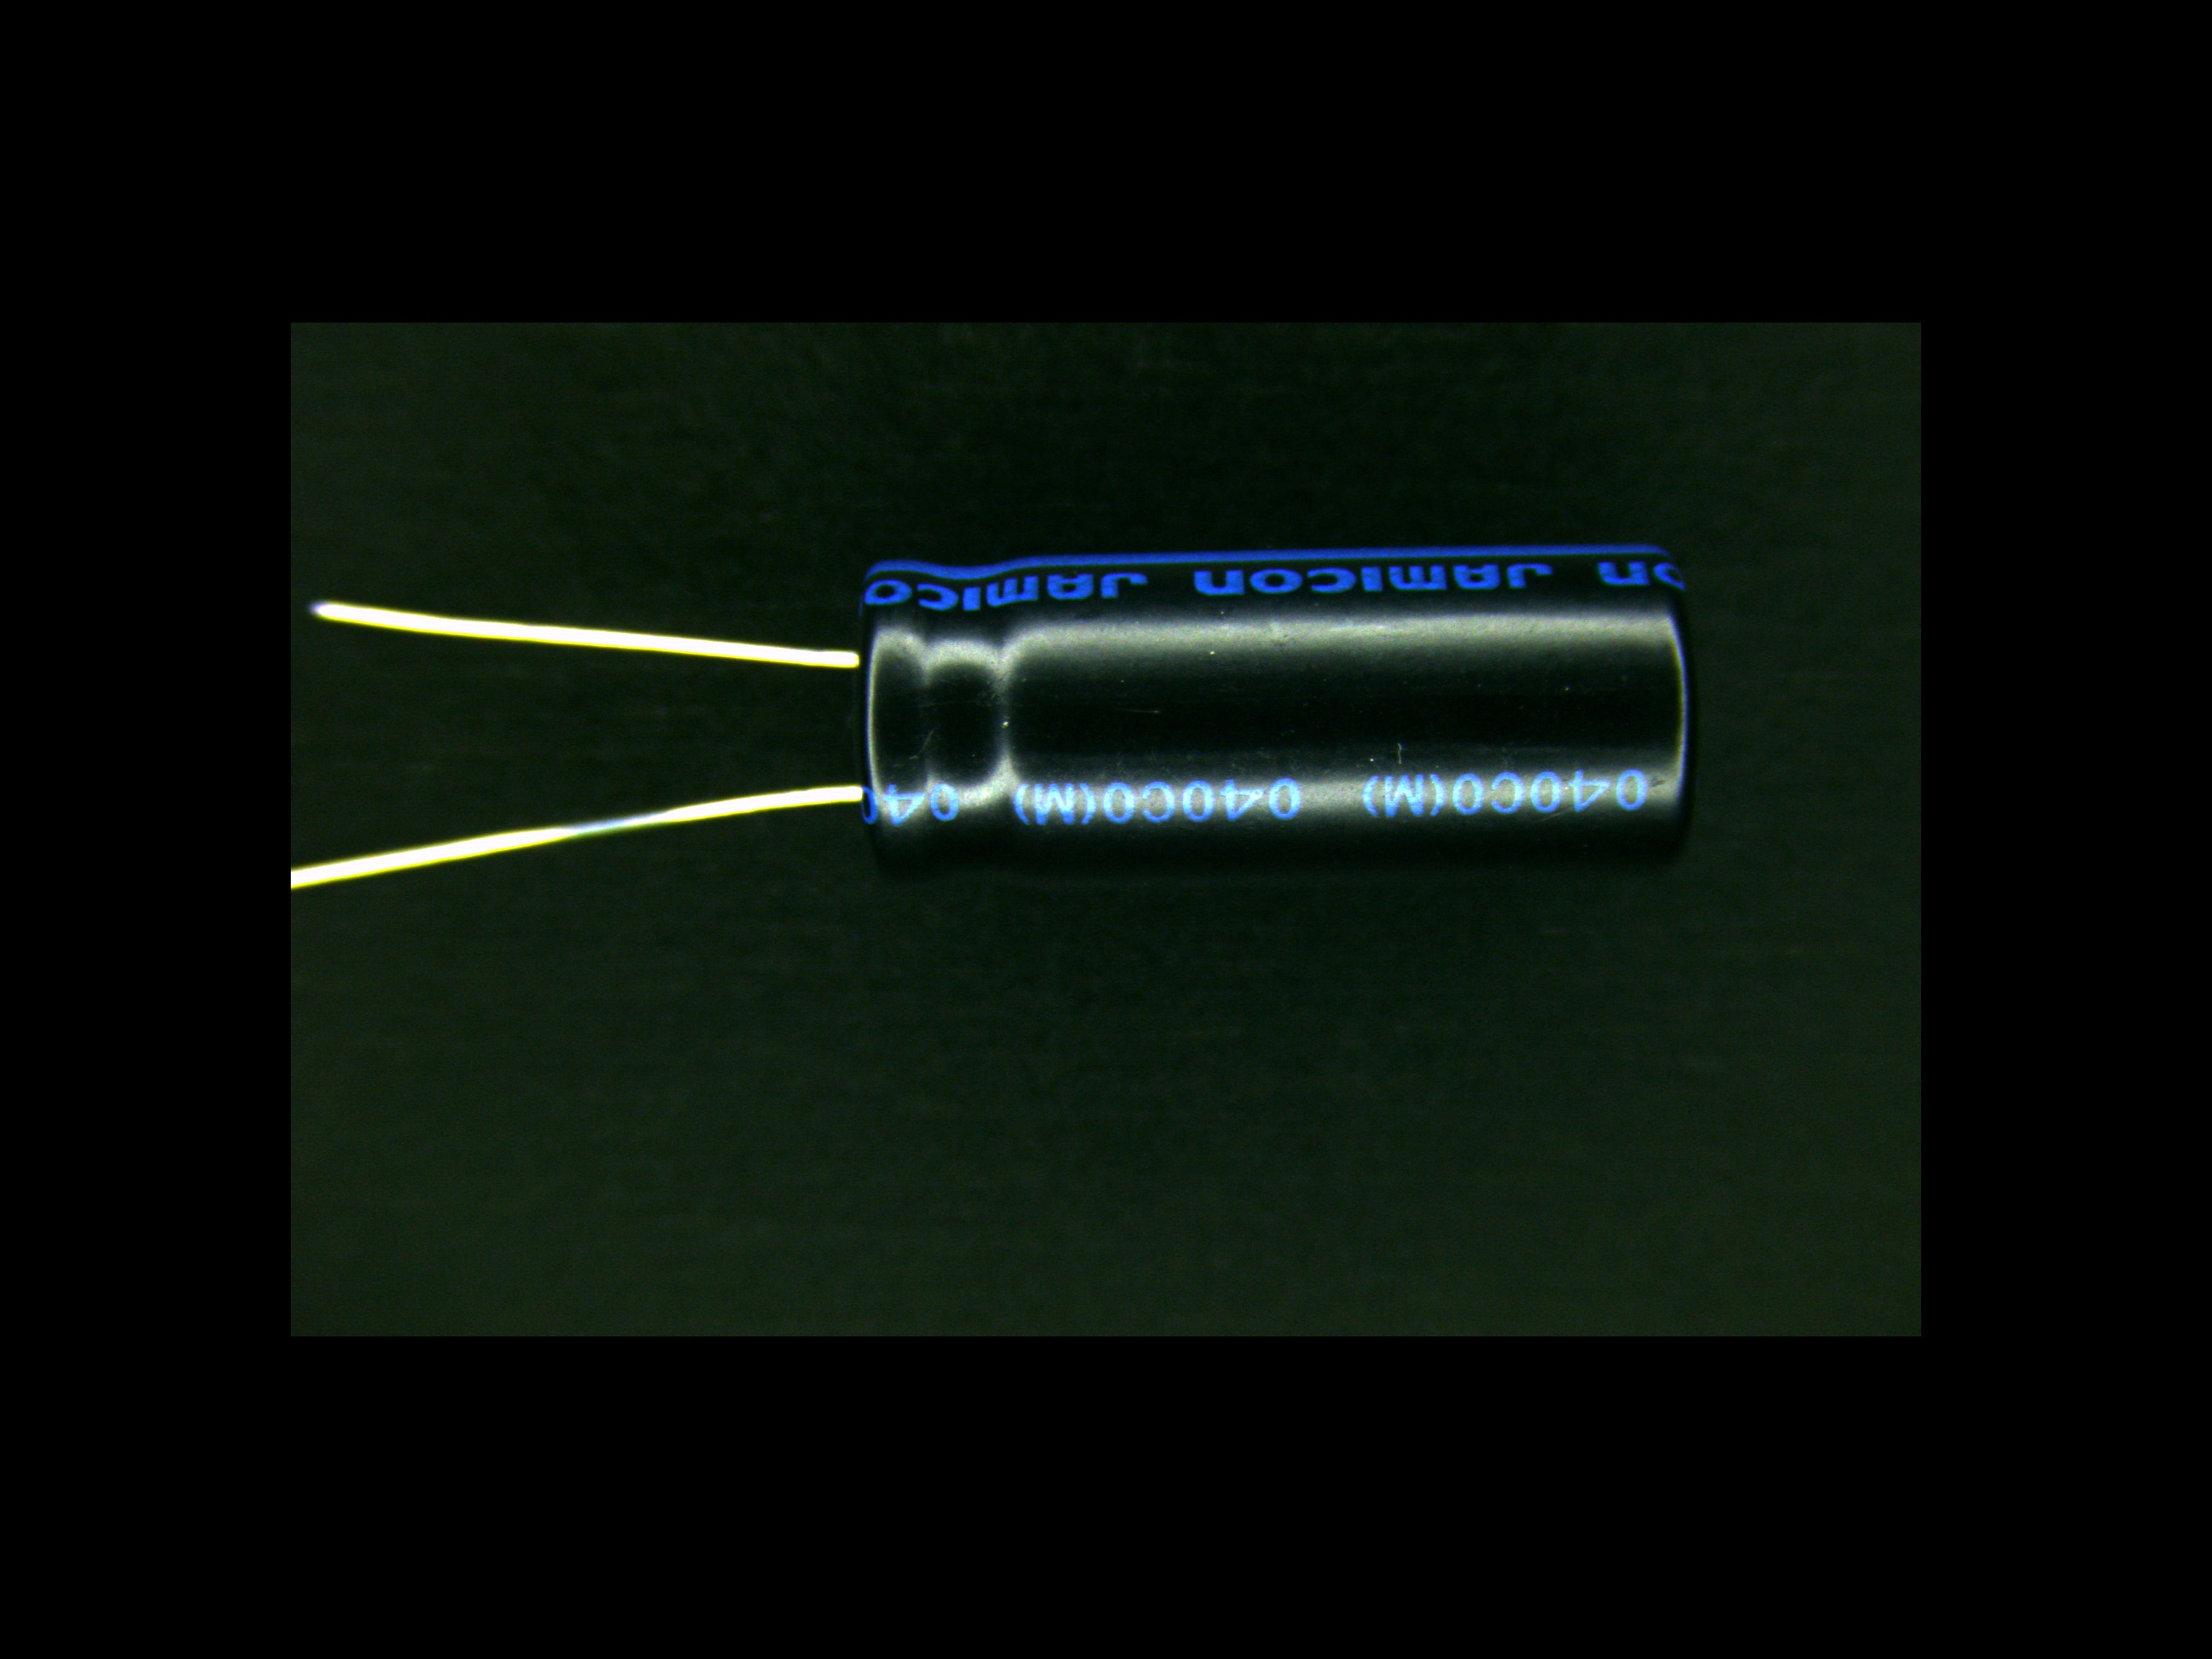c2: (747, 542, 1700, 863)
